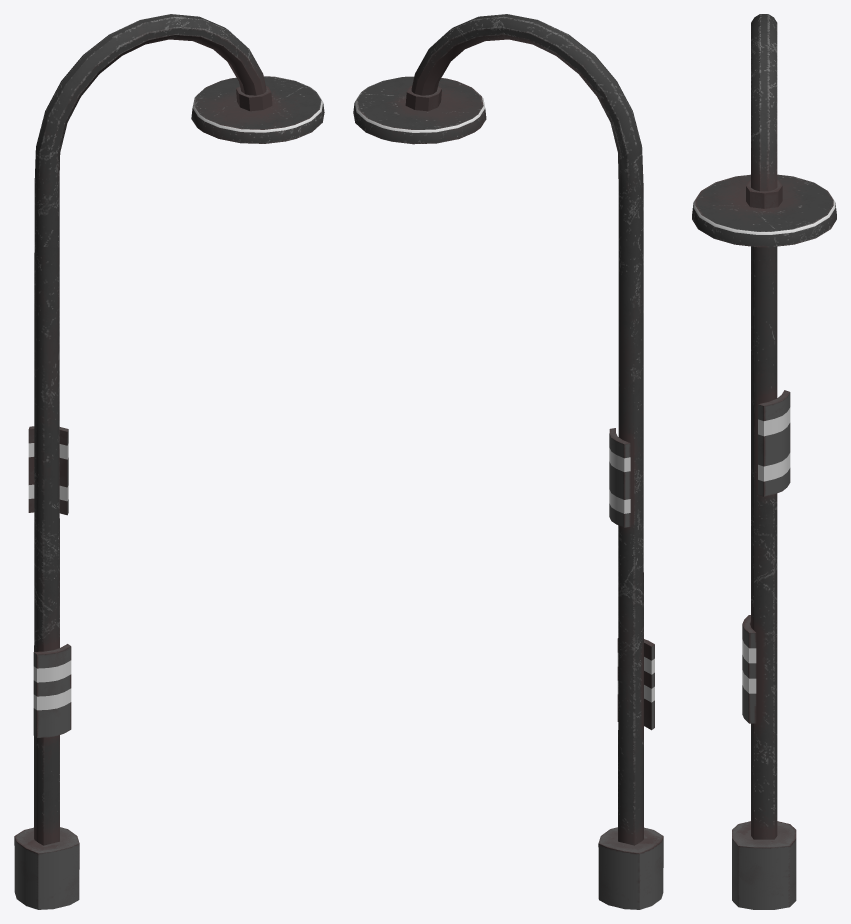
File: Lamp.fbx
3 renders of one model, left to right at view 1: azimuth 30°, elevation 25°; view 2: azimuth 150°, elevation 25°; view 3: azimuth 270°, elevation 25°, orthographic. The views are drawn at different scales.
Parts seen in each view (by area): view 1: Lamp; view 2: Lamp; view 3: Lamp.
Boxes of the visible parts, box(x1,y1,x2,y2) form: Lamp: box(14, 14, 324, 909); Lamp: box(353, 14, 663, 909); Lamp: box(692, 14, 836, 909).
Size of the model in its own units: 210 by 580 by 82.33.
